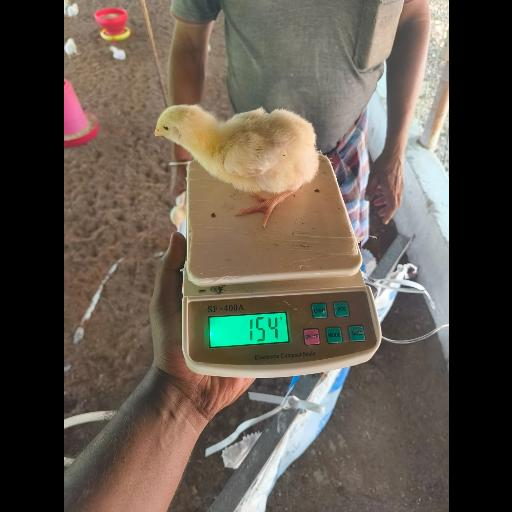chick: (153, 105, 317, 228)
